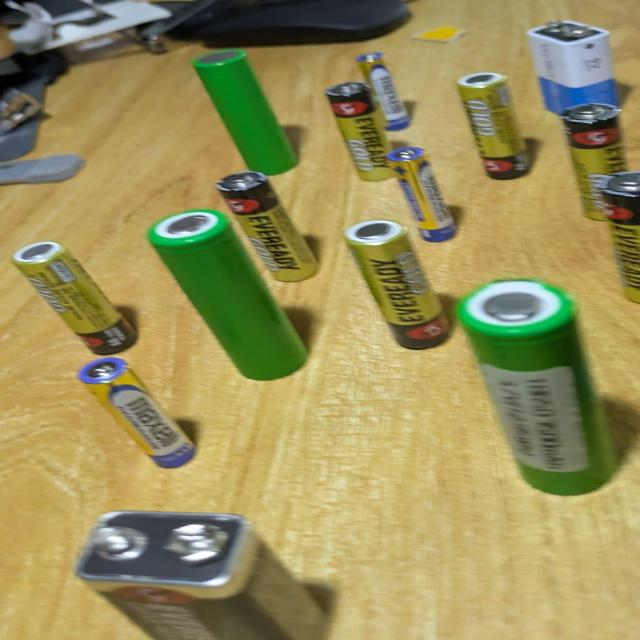9V: (62, 506, 340, 640), (521, 16, 621, 111)
AA: (342, 212, 463, 356), (9, 232, 142, 359), (212, 165, 323, 290), (551, 95, 628, 222), (455, 67, 537, 184), (322, 78, 393, 188), (597, 165, 640, 314)
AAA: (70, 354, 208, 468), (386, 142, 466, 244), (358, 48, 417, 124)
